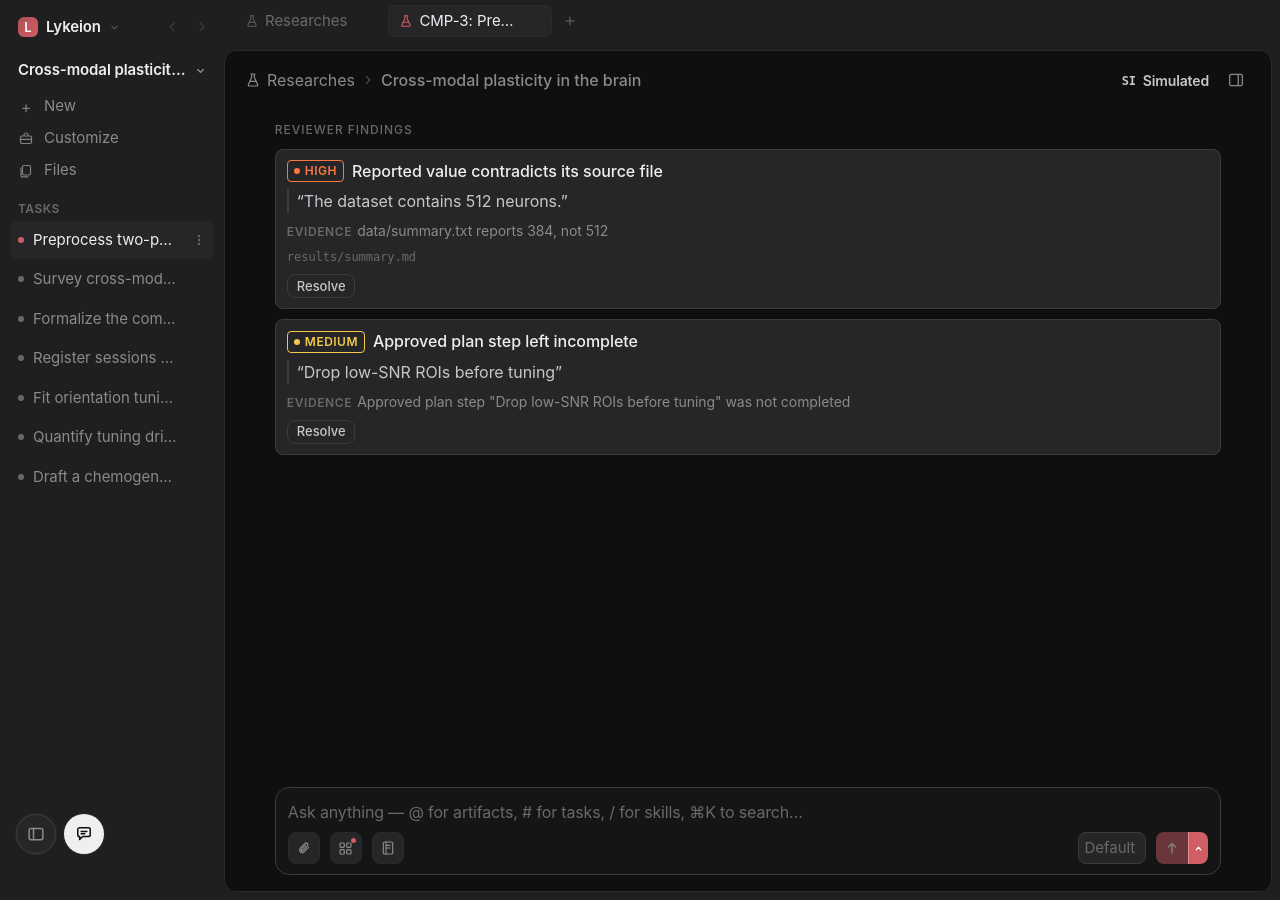
Task transcript refresh on landing › shows the landed turn's card exactly once, from the refetched transcript
Step 1. Type "count the kinases" into the text box named "Message the agent" → (748, 812), box x1=288 y1=800 x2=1208 y2=824
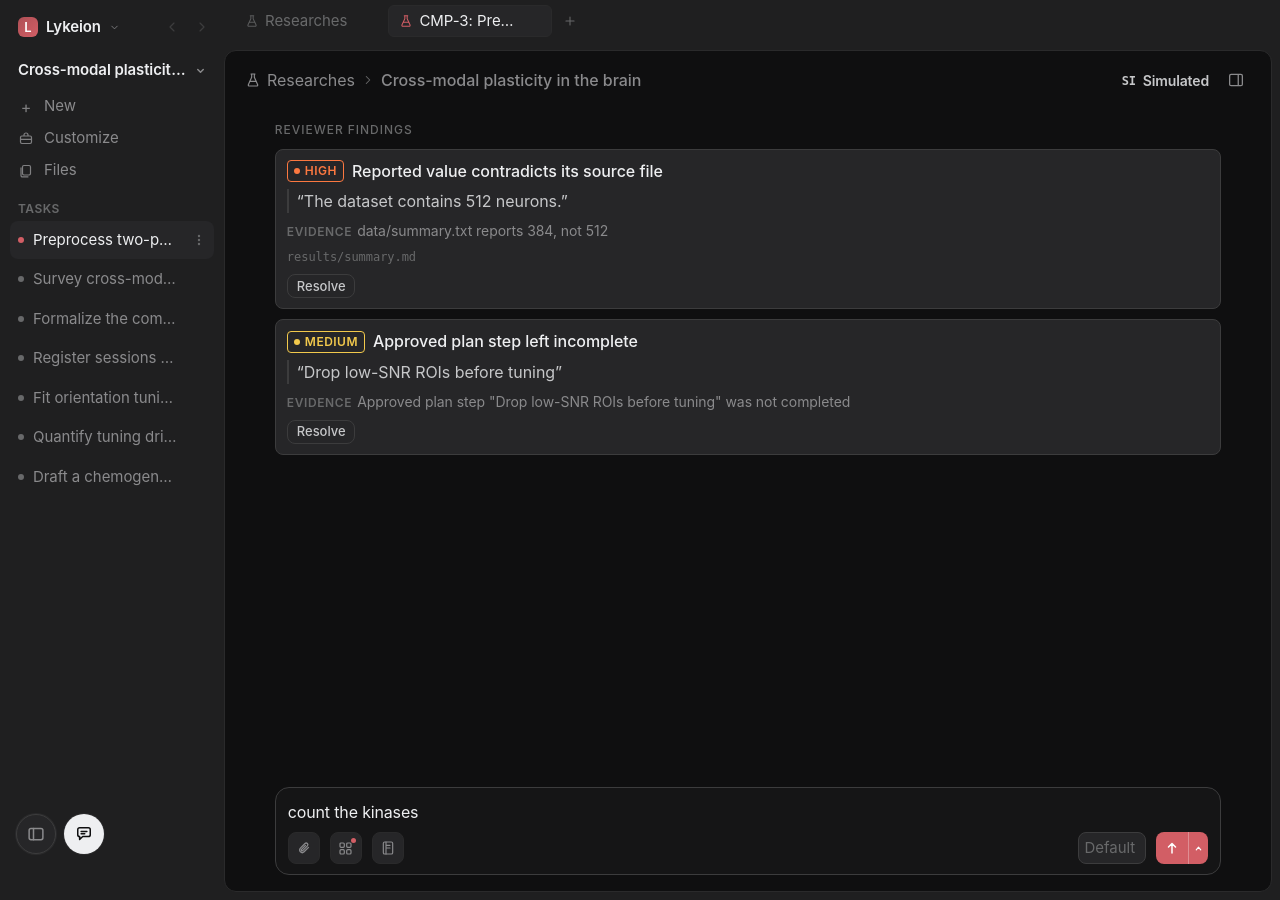
Step 2. Click the button named "Send" → (1172, 848), box x1=1156 y1=832 x2=1188 y2=864
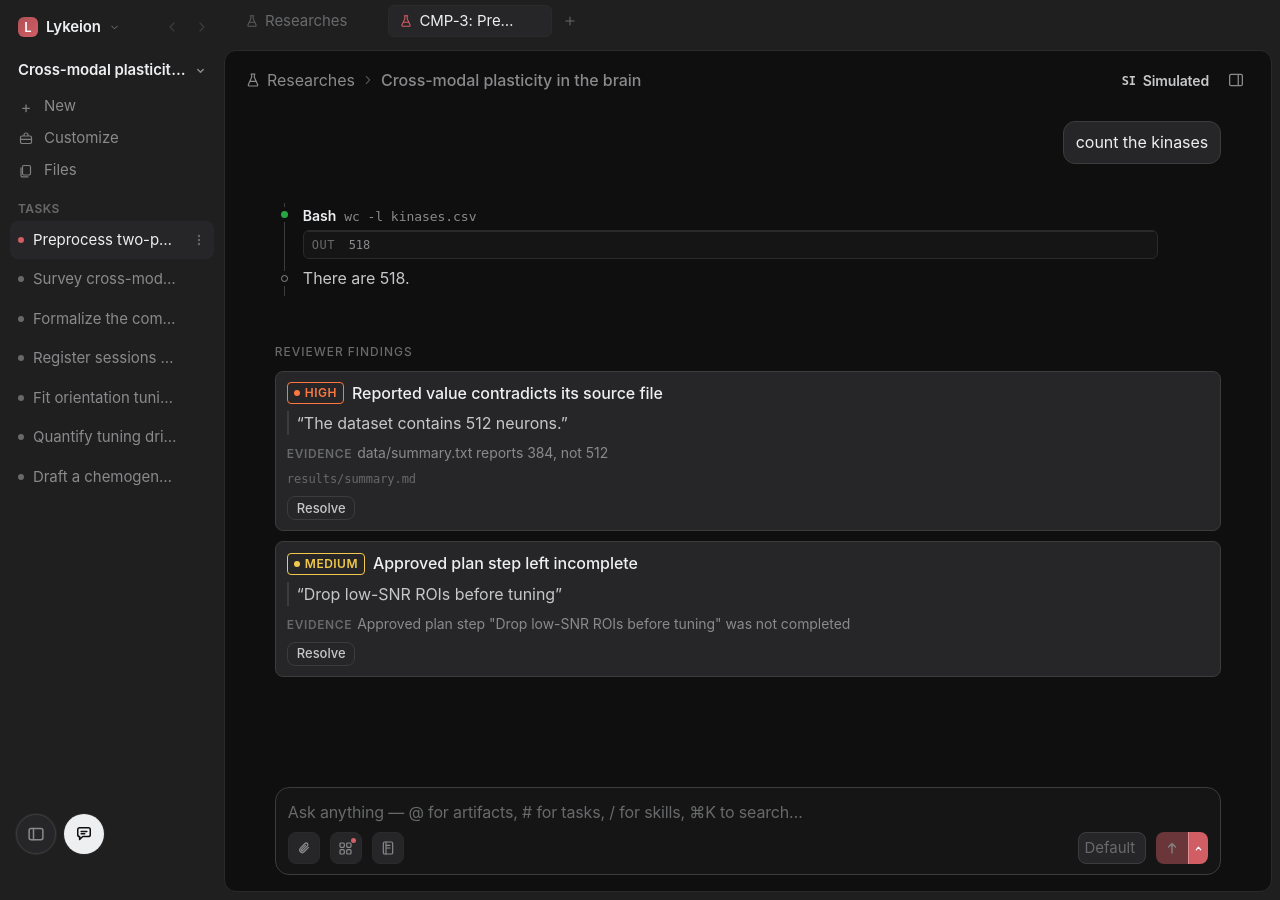
Expected: the text "wc -l kinases.csv" is shown once, x1=344 y1=209 x2=476 y2=224
Expected: the text "There are 518." is shown once, x1=303 y1=268 x2=410 y2=288
